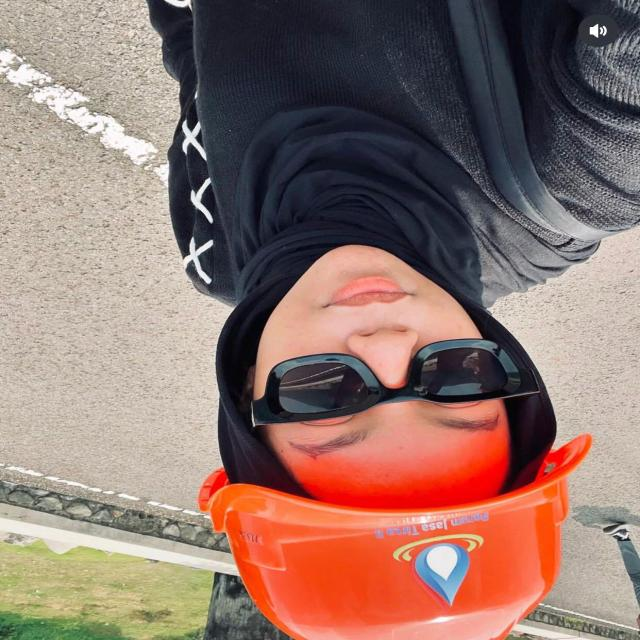safetyhelmet: (169, 236, 596, 640)
